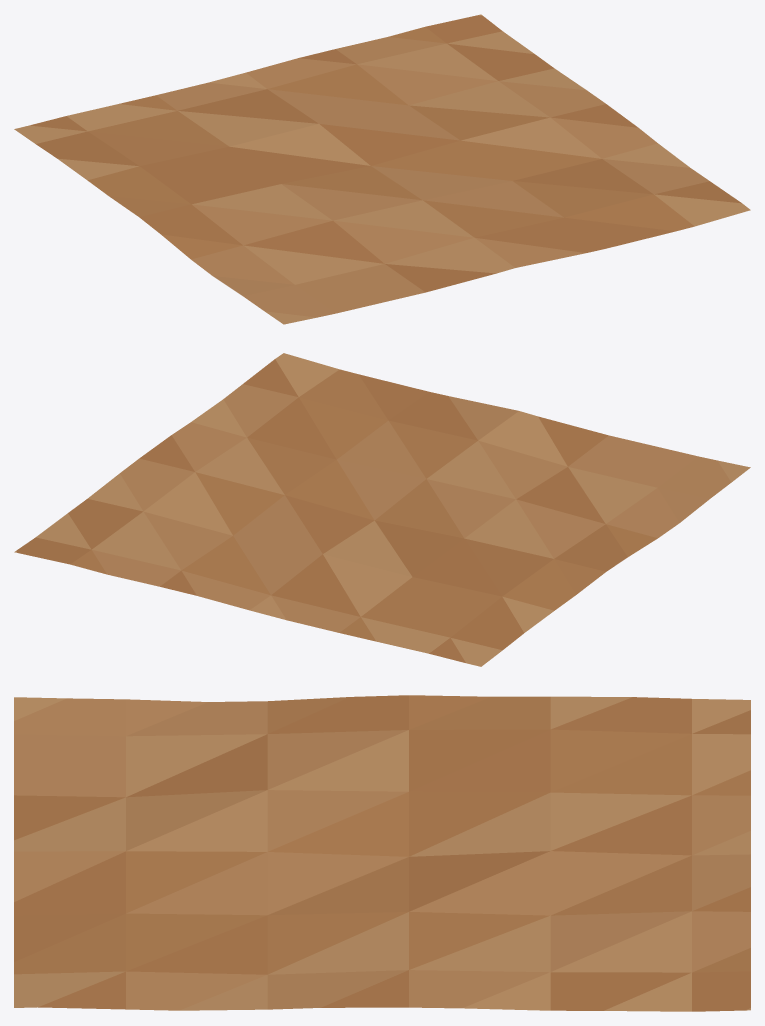
3 renders of one model, top to bottom at view 1: azimuth 30°, elevation 25°; view 2: azimuth 150°, elevation 25°; view 3: azimuth 270°, elevation 25°, orthographic. The views are drawn at different scales.
Parts seen in each view (by area): view 1: baked; view 2: baked; view 3: baked.
Part boxes in pixels (x1,y1,x2,y2): baked: (14, 14, 750, 324); baked: (14, 353, 750, 666); baked: (14, 695, 750, 1011).
Bounding box in the file's own units: 62.5 × 0.7422 × 62.5.
